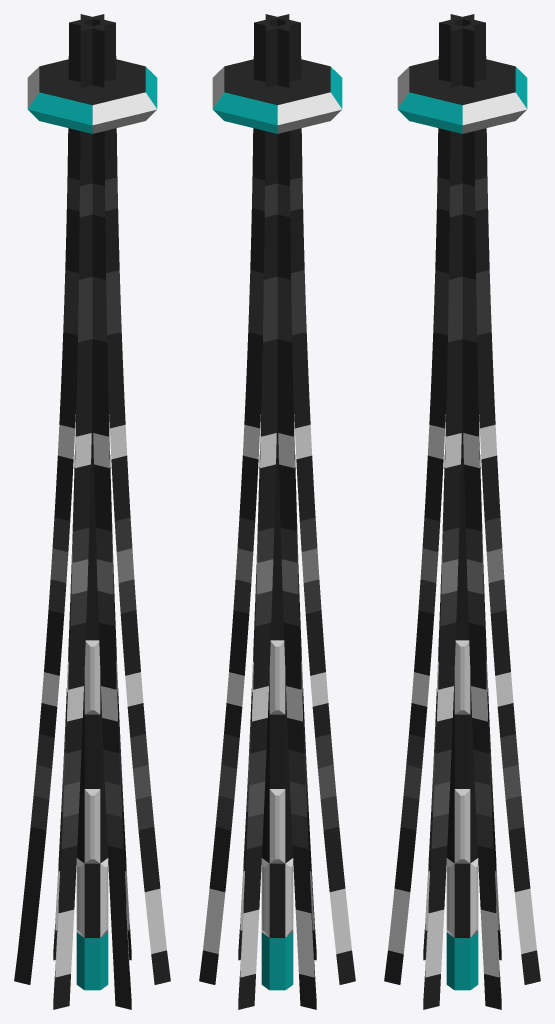
The model's file is CommsTower.fbx.
3 renders of one model, left to right at view 1: azimuth 30°, elevation 25°; view 2: azimuth 150°, elevation 25°; view 3: azimuth 270°, elevation 25°, orthographic.
Visible parts, largest first — view 1: CommsTower; view 2: CommsTower; view 3: CommsTower.
Part boxes in pixels (x1,y1,x2,y2): CommsTower: (14, 14, 170, 1009); CommsTower: (199, 14, 355, 1009); CommsTower: (384, 14, 540, 1009).
Size of the model in its own units: 142 by 1003 by 148.
